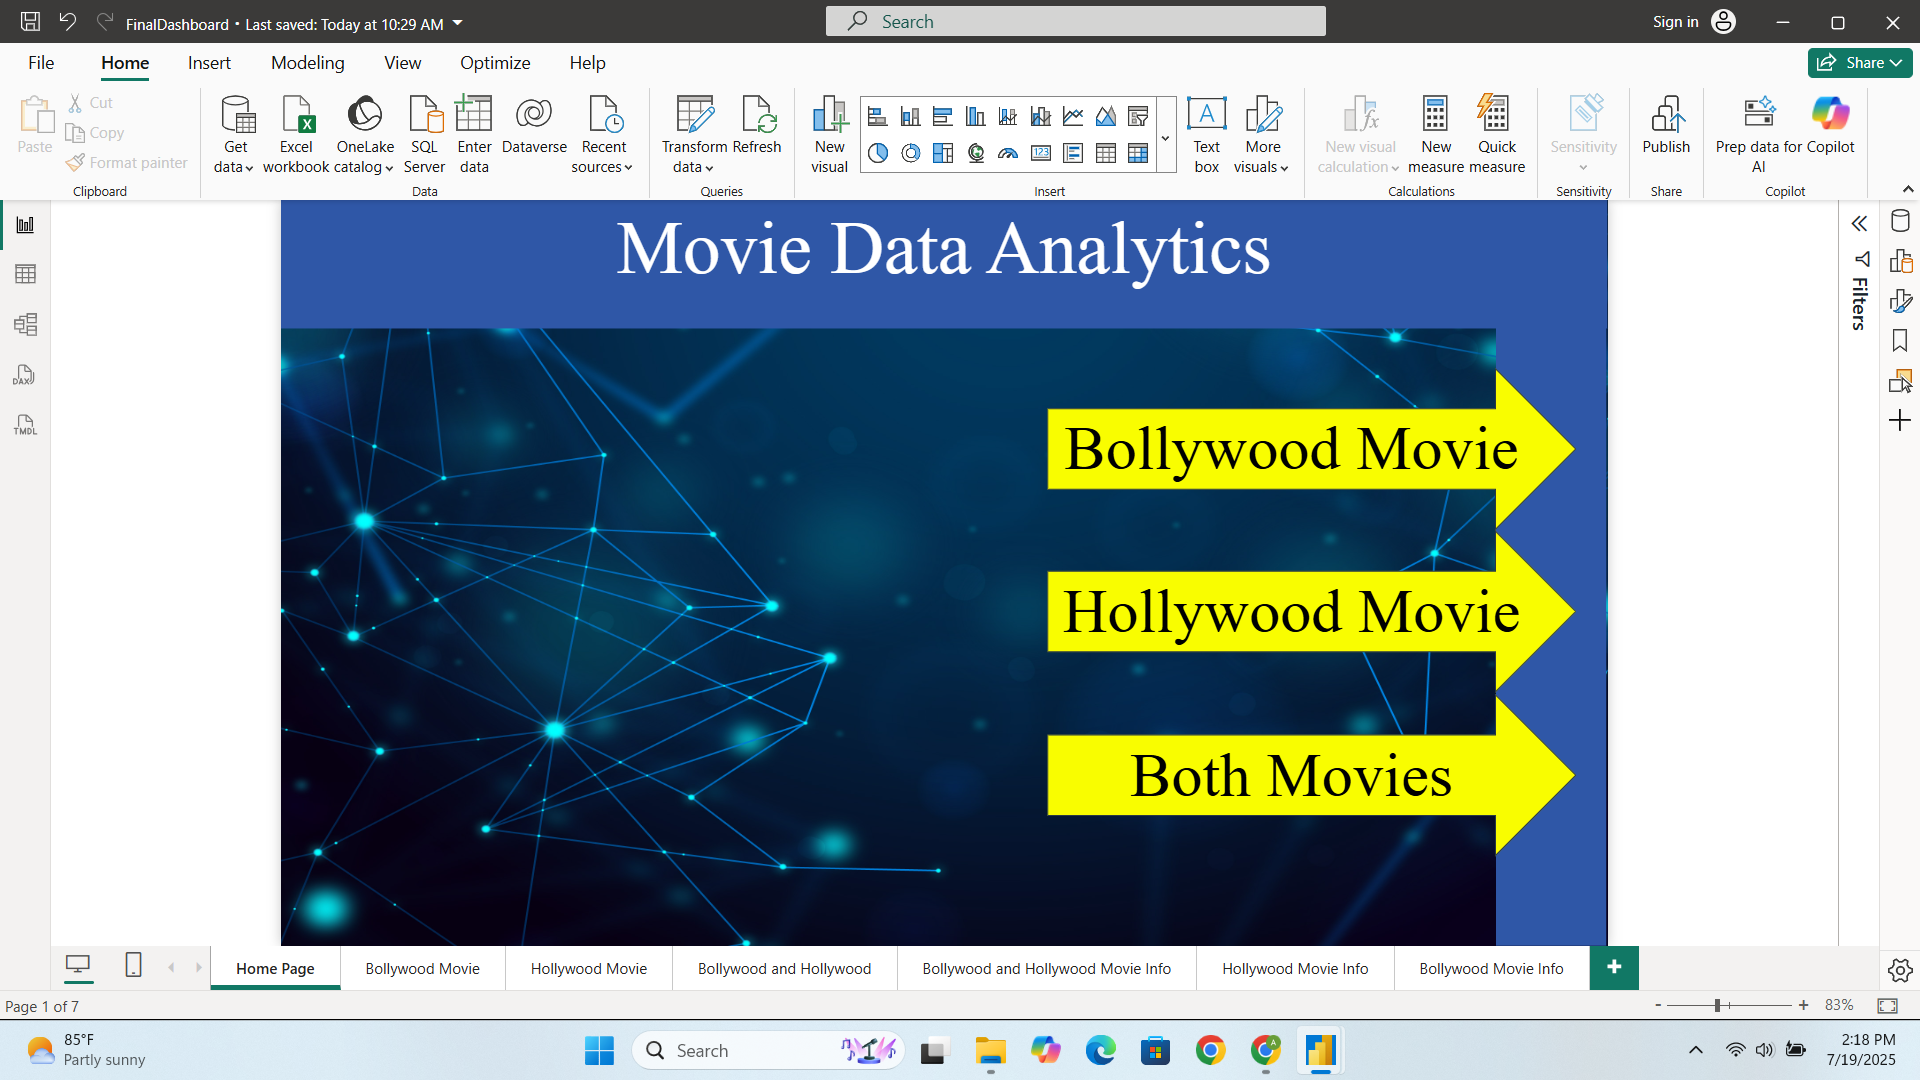

Layout of this report page (visuals, bound fields, positions):
{"tool":"powerbi","page":{"name":"Home Page","canvas":[1280,720],"ordinal":0},"visuals":[{"type":"textbox","box":[0,0,1279.7,124.1],"z":0},{"type":"textbox","box":[1173,103.9,106.8,616.1],"z":1},{"type":"shape","box":[740.1,161.6,510.7,157.3],"z":3},{"type":"shape","box":[740.1,318.9,510.7,157.3],"z":4},{"type":"shape","box":[740.1,476.1,510.7,157.3],"z":5}]}

Visuals, with their boxes on the page's 1280x720 design canvas (x1, y1, x2, y2). These are canvas units, not pixel positions in the 1920x1080 screenshot, which may show the page scaled, cropped or inside an application window:
textbox: bbox(0, 0, 1280, 124)
textbox: bbox(1173, 104, 1280, 720)
shape: bbox(740, 162, 1251, 319)
shape: bbox(740, 319, 1251, 476)
shape: bbox(740, 476, 1251, 633)
